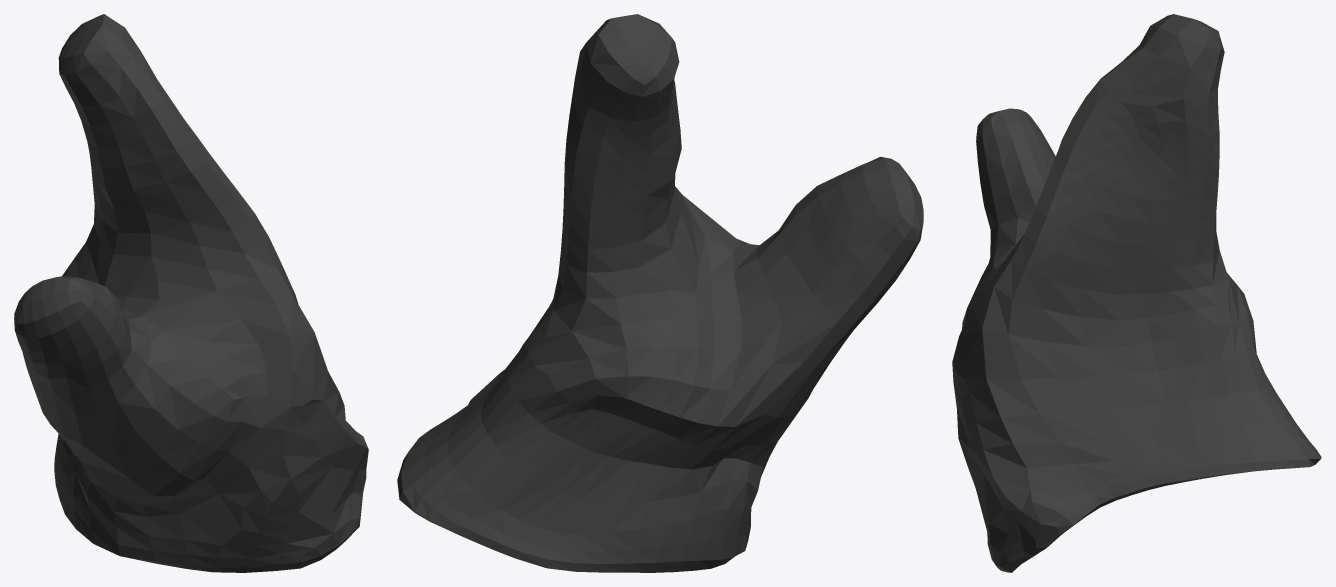
File: L_sided_PULMONARY_VEINS_RIGHT.glb
3 renders of one model, left to right at view 1: azimuth 30°, elevation 25°; view 2: azimuth 150°, elevation 25°; view 3: azimuth 270°, elevation 25°, orthographic. The views are drawn at different scales.
Parts seen in each view (by area): view 1: L_sided_PULMONARY_VEINS_RIGHT; view 2: L_sided_PULMONARY_VEINS_RIGHT; view 3: L_sided_PULMONARY_VEINS_RIGHT.
Part boxes in pixels (box(x1,y1,x2,y2)): L_sided_PULMONARY_VEINS_RIGHT: box(14, 14, 368, 572); L_sided_PULMONARY_VEINS_RIGHT: box(397, 14, 923, 572); L_sided_PULMONARY_VEINS_RIGHT: box(952, 14, 1321, 572).
Bounding box in the file's own units: 2.79 × 3.7 × 2.5.
1 material, 1 textured.
